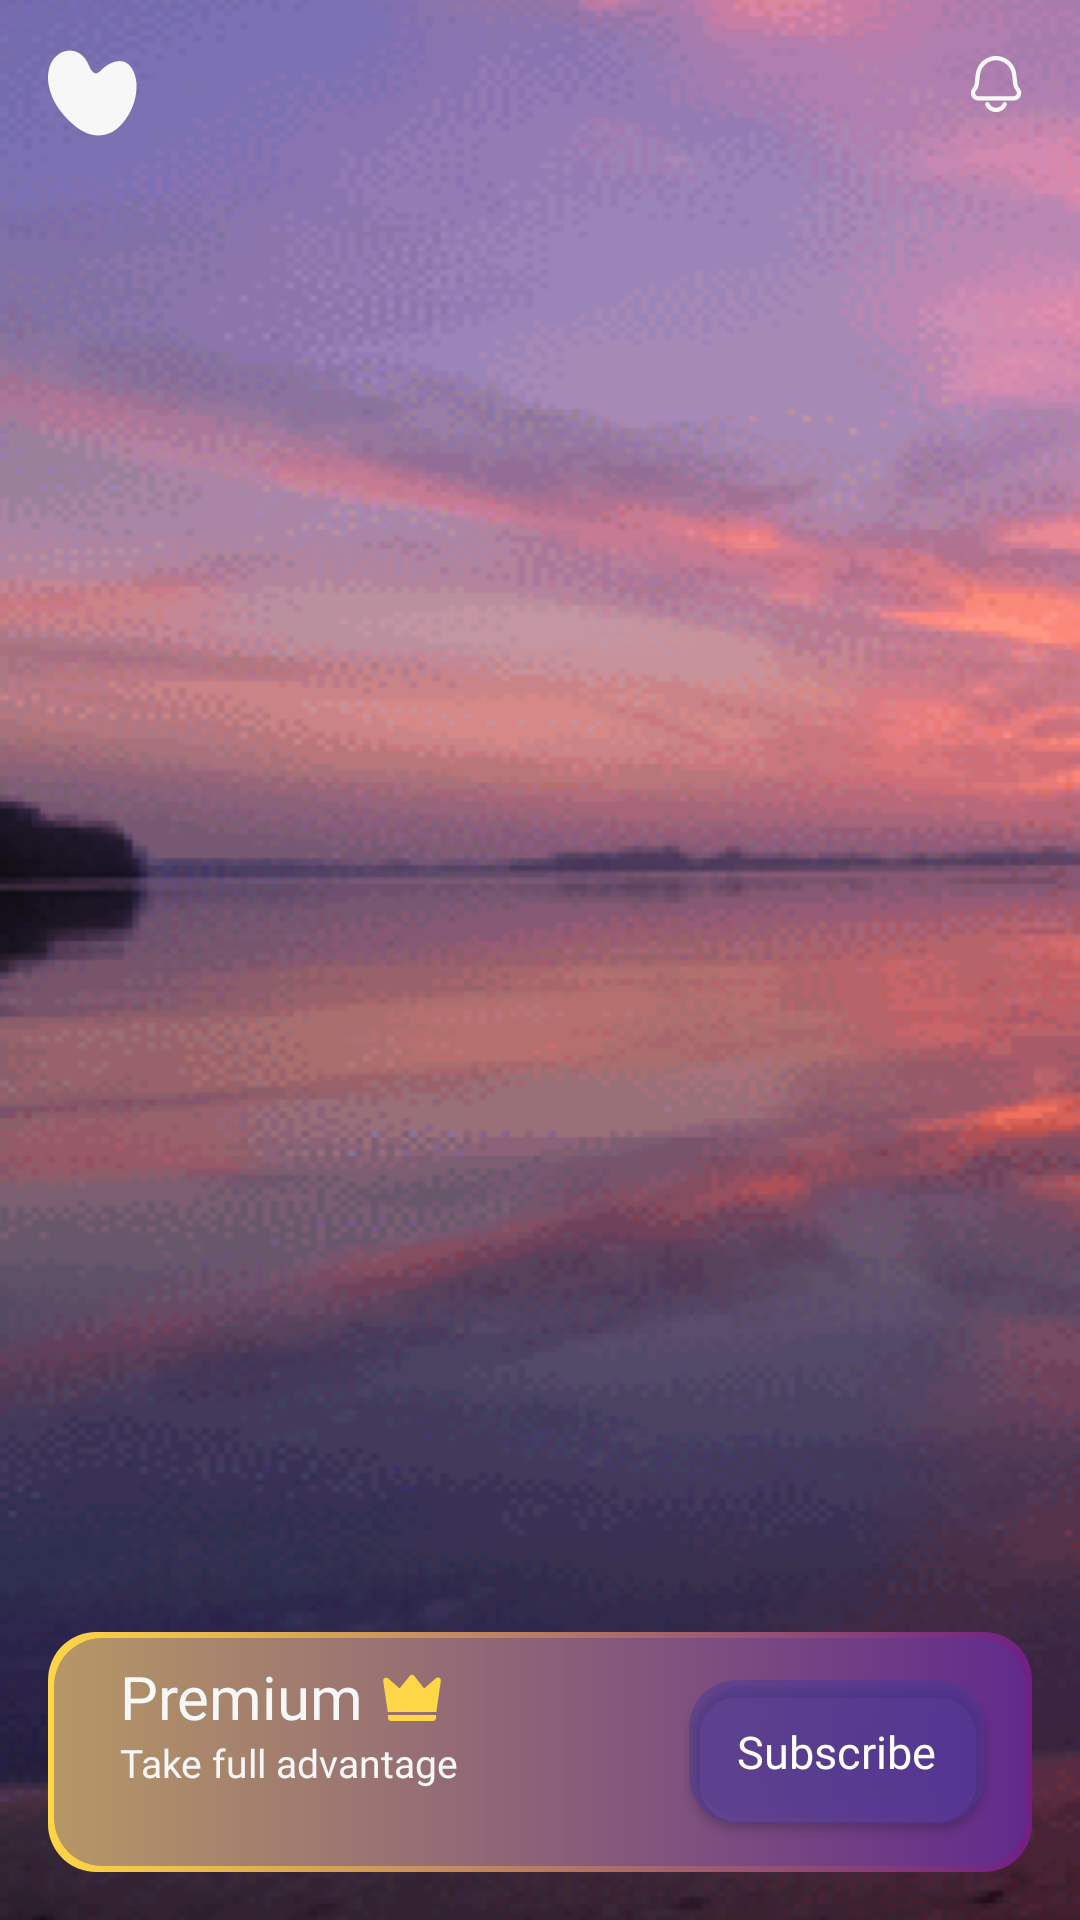

Where icons sit on this 1080x1920 app screen, as (x1,y1,x2,y2):
crown: (383,1675,441,1721)
notification: (971,56,1022,120)
